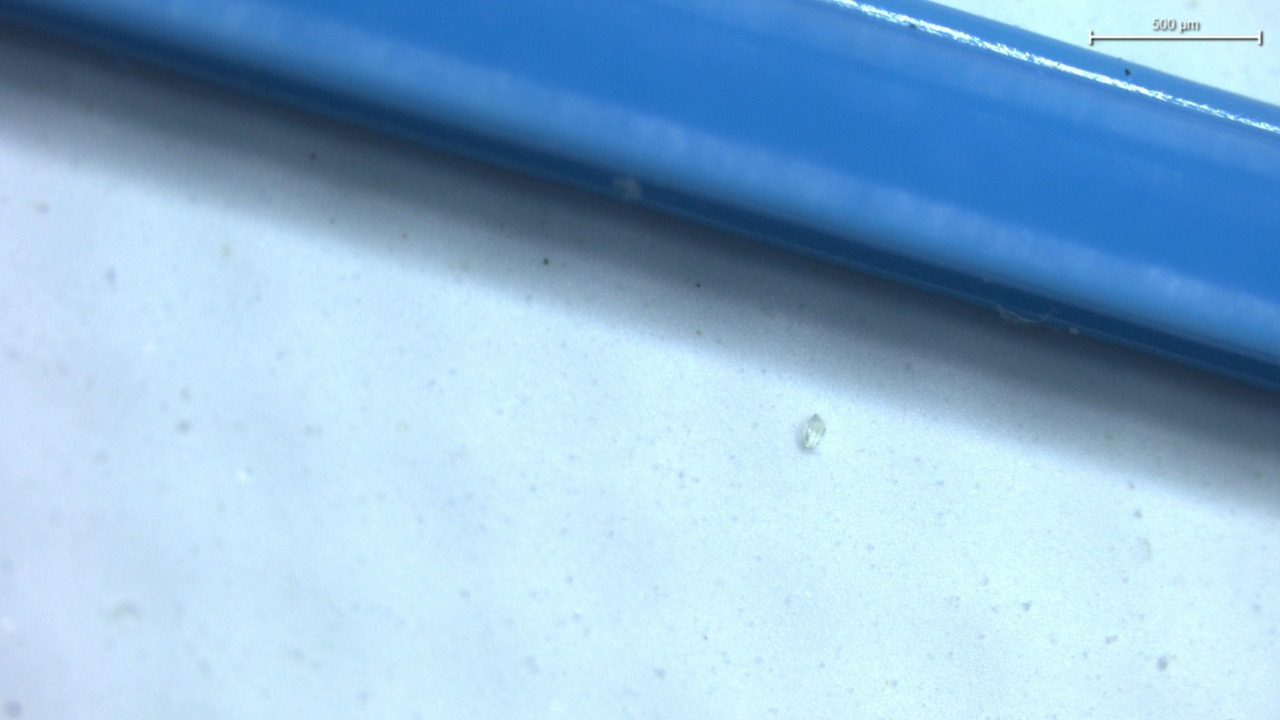microplastic_fragment: (801, 413, 826, 450)
